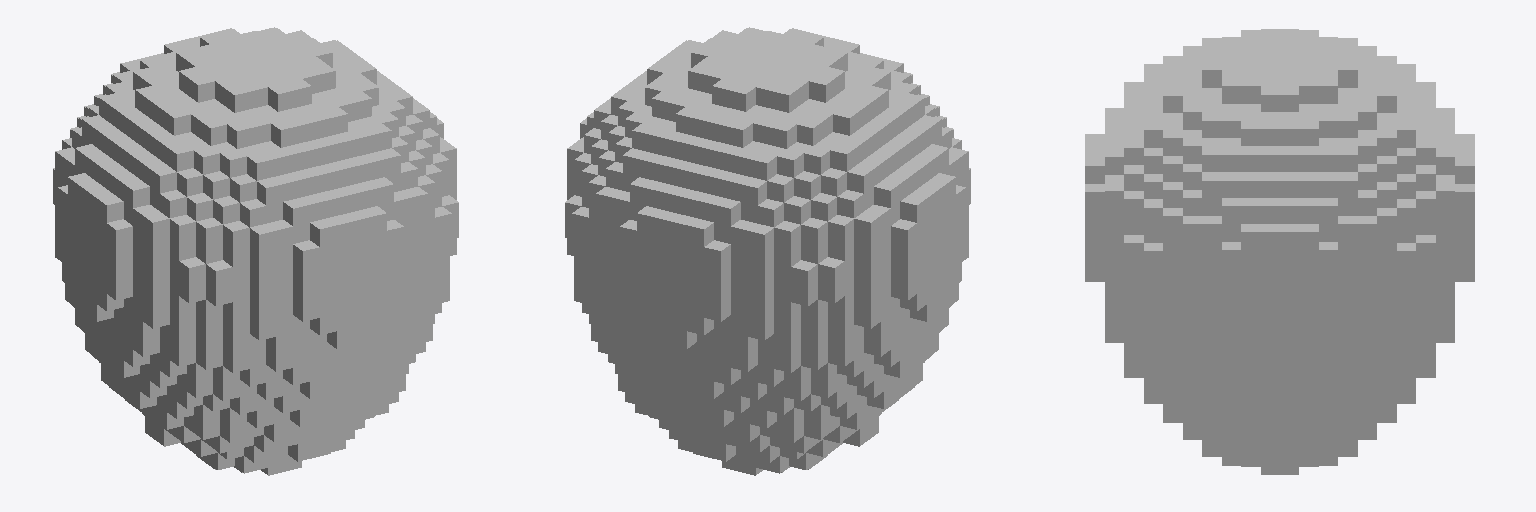
The model's file is Beehive.obj.
The picture shows the model from 3 angles: view 1: azimuth 30°, elevation 25°; view 2: azimuth 150°, elevation 25°; view 3: azimuth 270°, elevation 25°; orthographic projection.
Parts seen in each view (by area): view 1: Untitled; view 2: Untitled; view 3: Untitled.
Part boxes in pixels (left/top/right/bottom): Untitled: left=53, top=27, right=458, bottom=475; Untitled: left=565, top=27, right=970, bottom=475; Untitled: left=1085, top=29, right=1474, bottom=474.
Bounding box in the file's own units: 2 × 2.2 × 2.